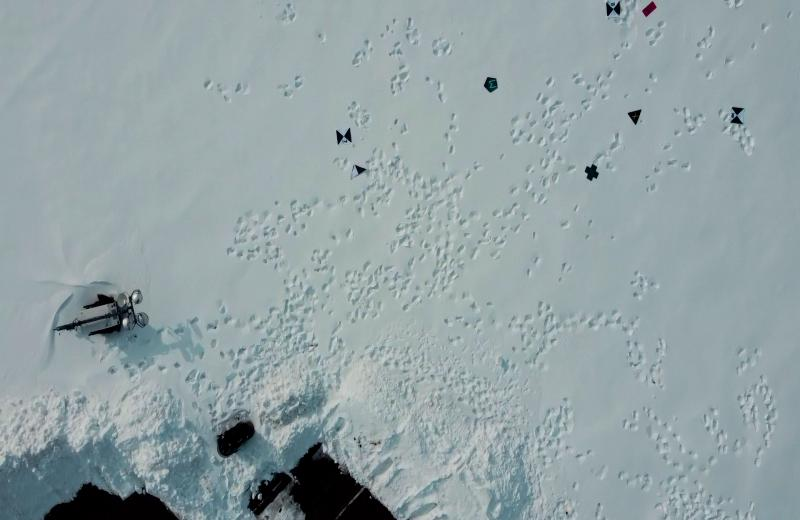Cross: (582, 163, 601, 182)
Pentagon: (483, 75, 498, 94)
Rectangle: (641, 0, 657, 19)
Triangle: (626, 109, 644, 126)
